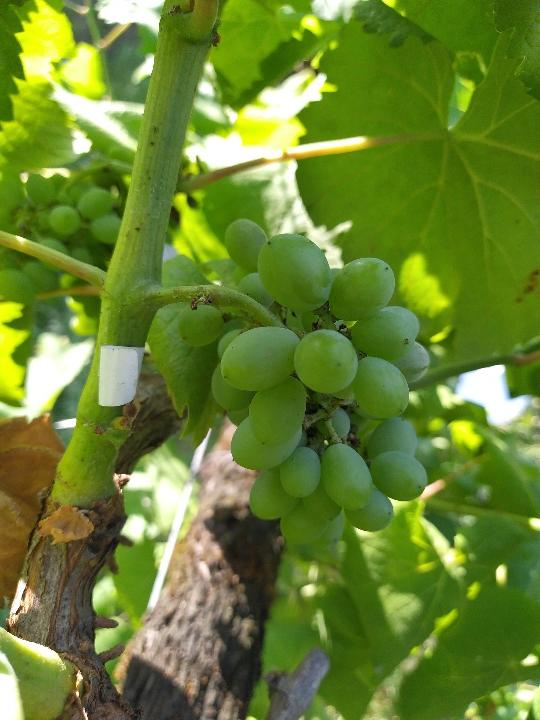grape: (178, 214, 431, 553)
